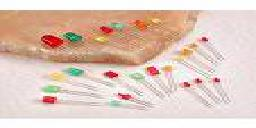LED: (41, 96, 96, 111), (39, 33, 66, 49), (64, 29, 86, 47)
